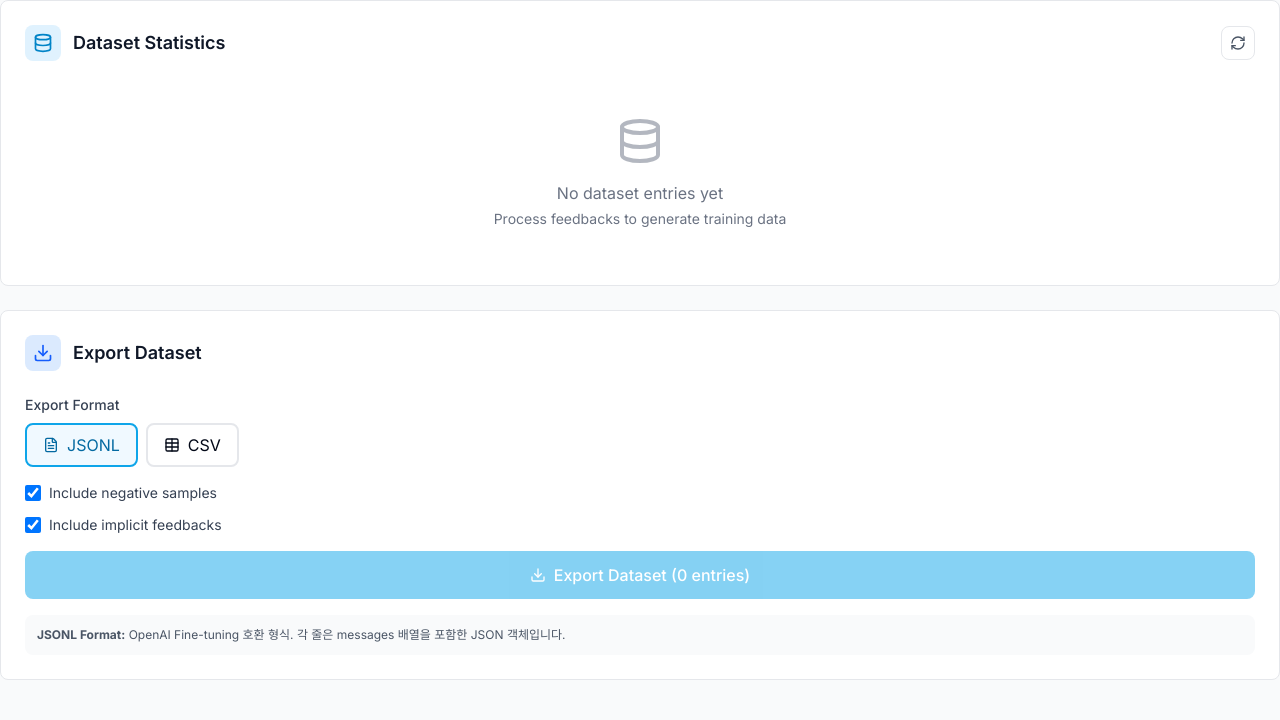
Test: DatasetPanel › switches to CSV format info when CSV is selected
The image size is (1280, 720).
Click the button "CSV" at (192, 445), box top-left (146, 423), bottom-right (239, 467)
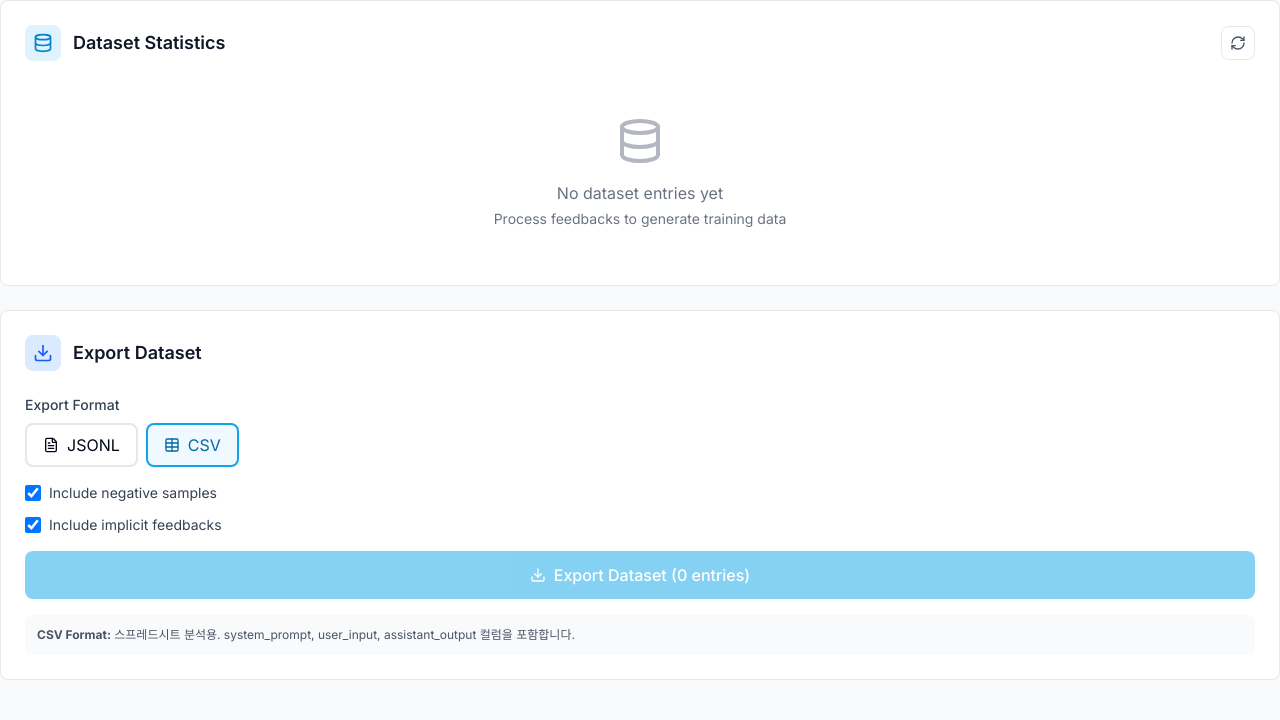
Result: the text "CSV Format:" is shown at top-left (37, 627), bottom-right (111, 642)
